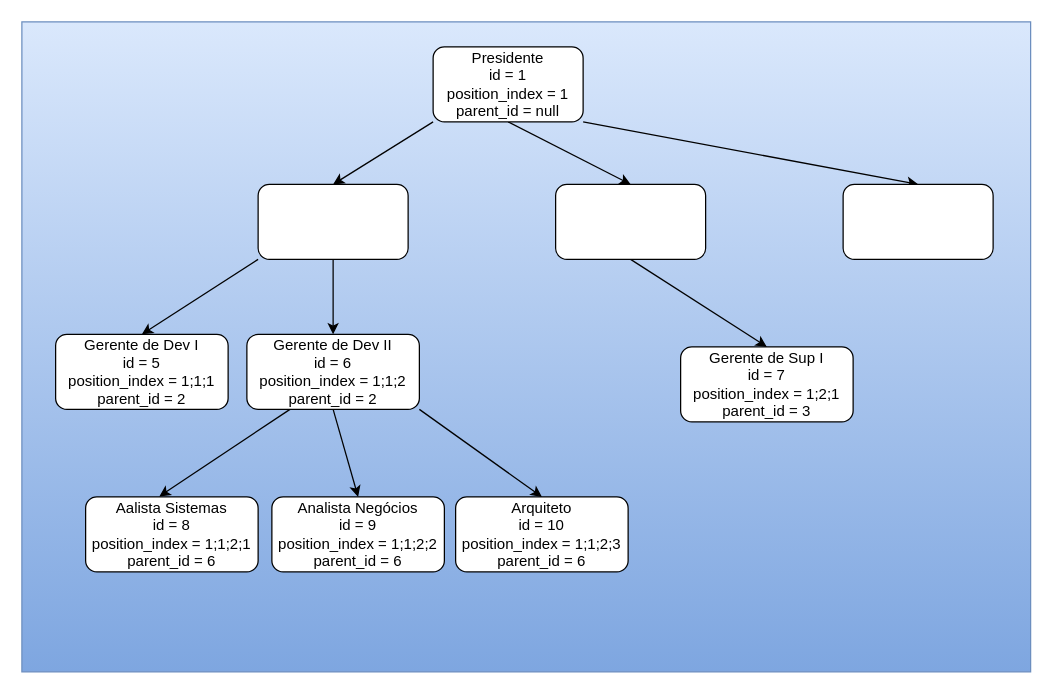
Some shapes in this 1053 by 694 pixel diagram are drawn without their labels. Each missing label, with the centre of its shape:
Diretor de Dev id = 2 position_index = 1;1 parent_id = 1: (x=332, y=221)
Diretor de Quali id = 4 position_index = 1;3 parent_id = 1: (x=917, y=221)
Diretor de Sup id = 3 position_index = 1;2 parent_id = 1: (x=630, y=221)
